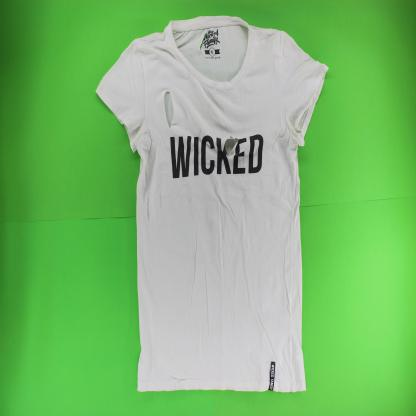hole: (163, 90, 175, 132), (223, 135, 240, 160), (198, 31, 208, 52)
